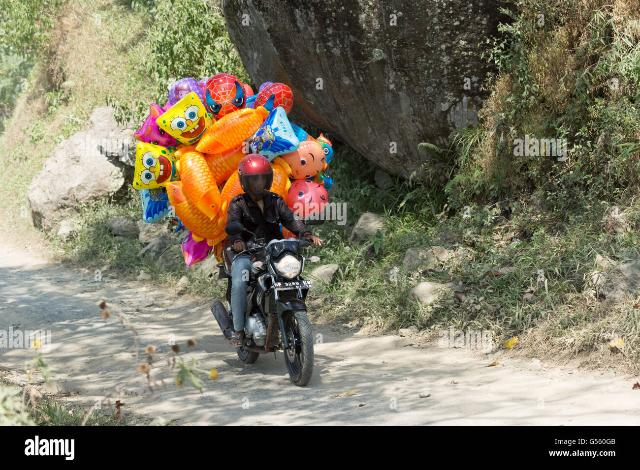helm: (240, 155, 274, 197)
motor: (215, 239, 324, 388)
